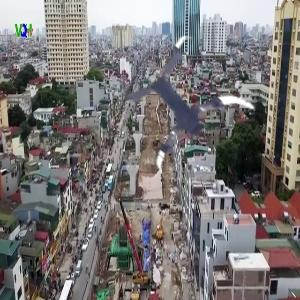drone: (121, 49, 254, 182)
